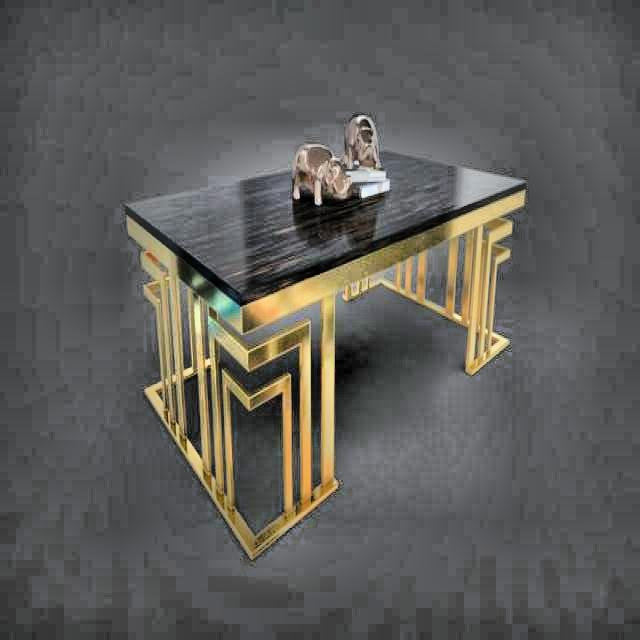mesa: (123, 137, 528, 561)
